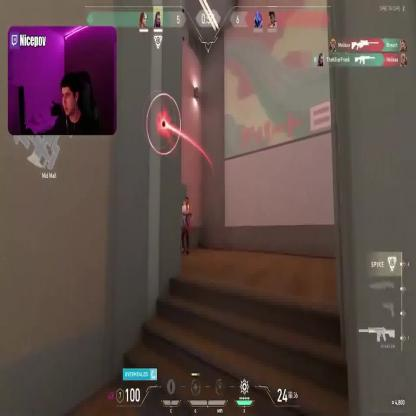enemy: (180, 194, 192, 256)
enemy_head: (185, 196, 189, 206)
